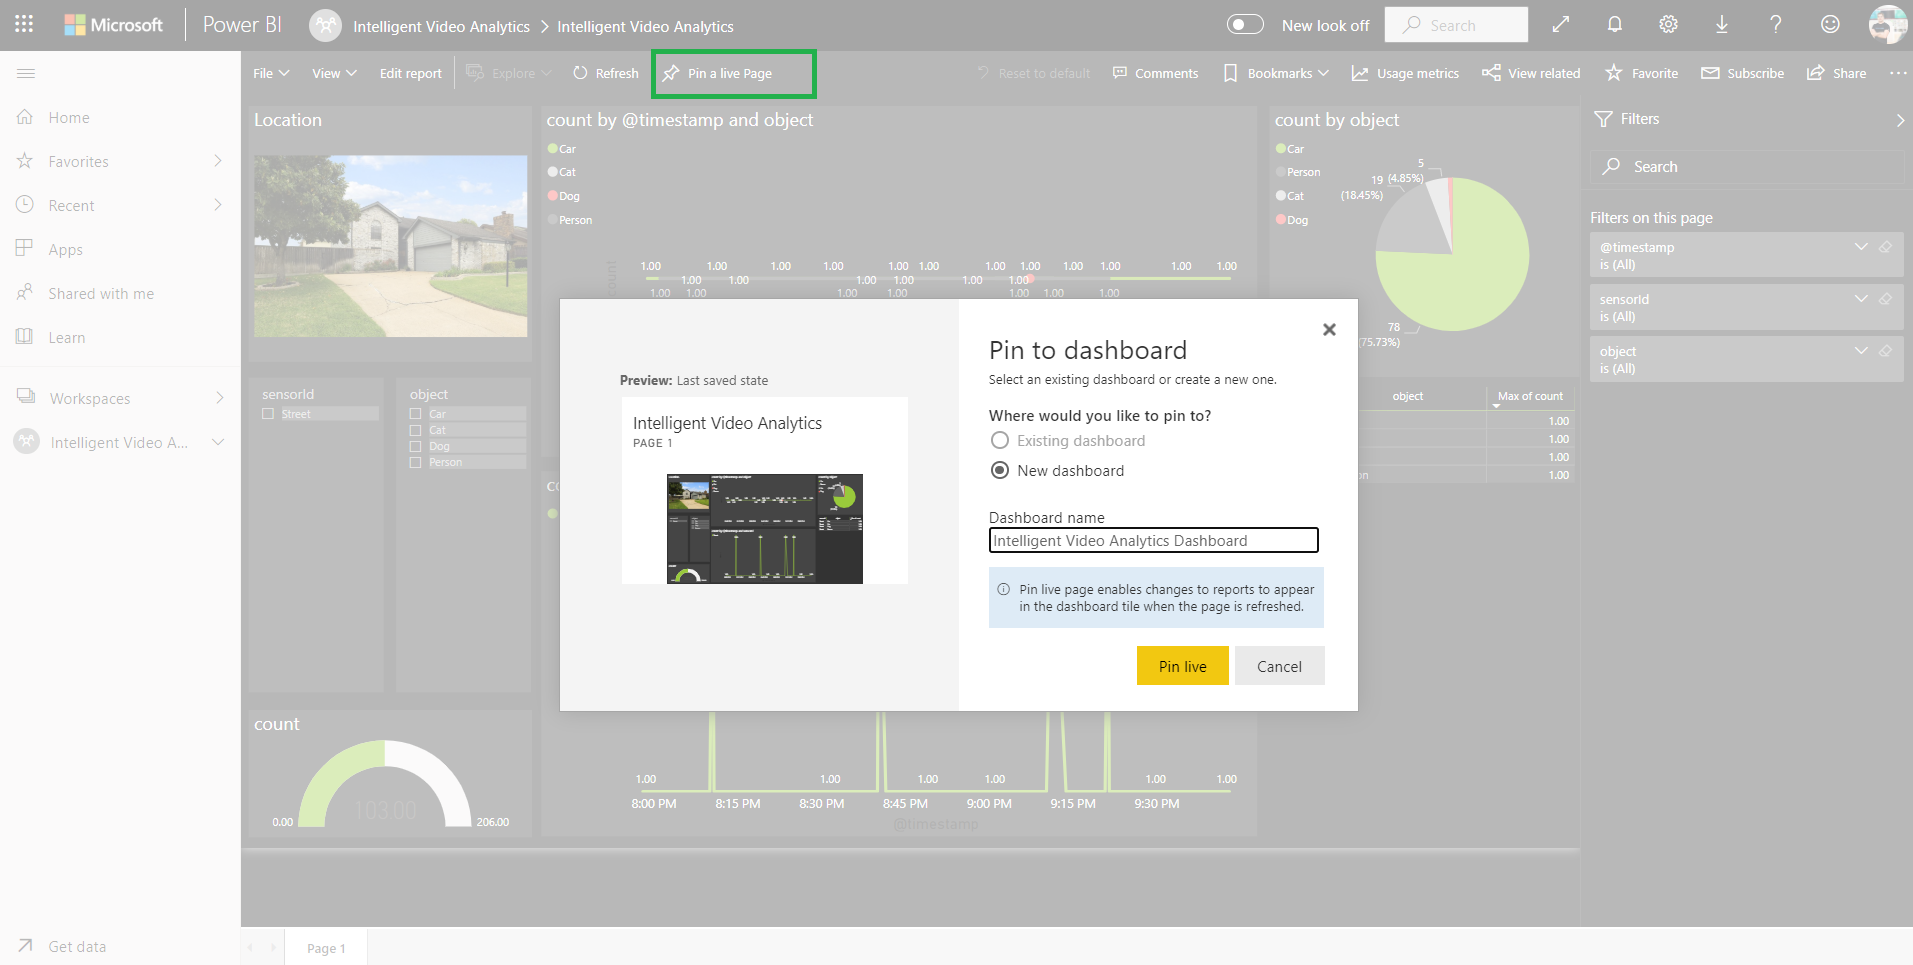

The dashboard page shown, as its layout file describes it:
{"tool":"powerbi","page":{"name":"Page 1","canvas":[1280,720],"ordinal":0},"visuals":[{"type":"tableEx","fields":{"Values":["AcceleratedEdge-ObjectDetections.sensorId","AcceleratedEdge-ObjectDetections.object","Max(AcceleratedEdge-ObjectDetections.count)"]},"box":[983.2,273.7,296.6,435.7],"z":0},{"type":"lineChart","fields":{"Series":["AcceleratedEdge-ObjectDetections.object"],"Category":["AcceleratedEdge-ObjectDetections.@timestamp"],"Y":["Sum(AcceleratedEdge-ObjectDetections.count)"]},"box":[286.9,10.6,684.8,335.4],"z":1000},{"type":"image","title":"3303 Meadway Dr. Houston, TX","box":[7,10.6,271.1,244.7],"z":2000},{"type":"gauge","fields":{"Y":["Sum(AcceleratedEdge-ObjectDetections.count)"]},"box":[7,588,271.1,121.5],"z":3000},{"type":"pieChart","fields":{"Category":["AcceleratedEdge-ObjectDetections.object"],"Y":["Sum(AcceleratedEdge-ObjectDetections.count)"]},"box":[983.3,10.2,296.7,259.5],"z":4000},{"type":"slicer","fields":{"Values":["AcceleratedEdge-ObjectDetections.sensorId"]},"box":[7,270.2,129.4,301],"z":5000},{"type":"slicer","fields":{"Values":["AcceleratedEdge-ObjectDetections.object"]},"box":[148.8,270.2,129.4,301],"z":6000},{"type":"lineChart","fields":{"Y":["Sum(AcceleratedEdge-ObjectDetections.count)"],"Category":["AcceleratedEdge-ObjectDetections.@timestamp"],"Series":["AcceleratedEdge-ObjectDetections.sensorId"]},"box":[286.9,360,684.8,349.4],"z":7000}]}

Visuals, with their boxes on the page's 1280x720 design canvas (x1, y1, x2, y2). These are canvas units, not pixel positions in the 1913x965 screenshot, which may show the page scaled, cropped or inside an application window:
tableEx - AcceleratedEdge-ObjectDetections.sensorId x AcceleratedEdge-ObjectDetections.object: [983, 274, 1280, 709]
lineChart - AcceleratedEdge-ObjectDetections.object x AcceleratedEdge-ObjectDetections.@timestamp: [287, 11, 972, 346]
"3303 Meadway Dr. Houston, TX" image: [7, 11, 278, 255]
gauge - Sum(AcceleratedEdge-ObjectDetections.count): [7, 588, 278, 710]
pieChart - AcceleratedEdge-ObjectDetections.object x Sum(AcceleratedEdge-ObjectDetections.count): [983, 10, 1280, 270]
slicer - AcceleratedEdge-ObjectDetections.sensorId: [7, 270, 136, 571]
slicer - AcceleratedEdge-ObjectDetections.object: [149, 270, 278, 571]
lineChart - Sum(AcceleratedEdge-ObjectDetections.count) x AcceleratedEdge-ObjectDetections.@timestamp: [287, 360, 972, 709]
